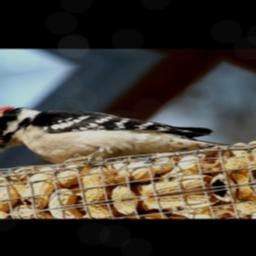Woodpecker: (0, 81, 229, 180)
